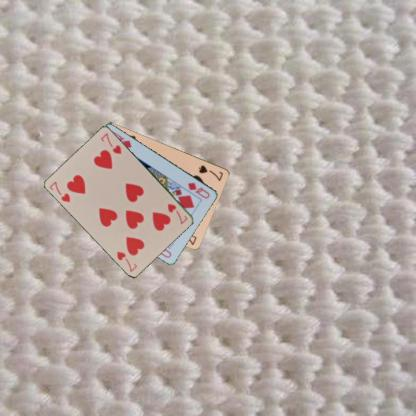7h: (46, 178, 72, 204), (165, 201, 189, 225)
7s: (196, 162, 225, 182)
Qd: (185, 180, 211, 200)
